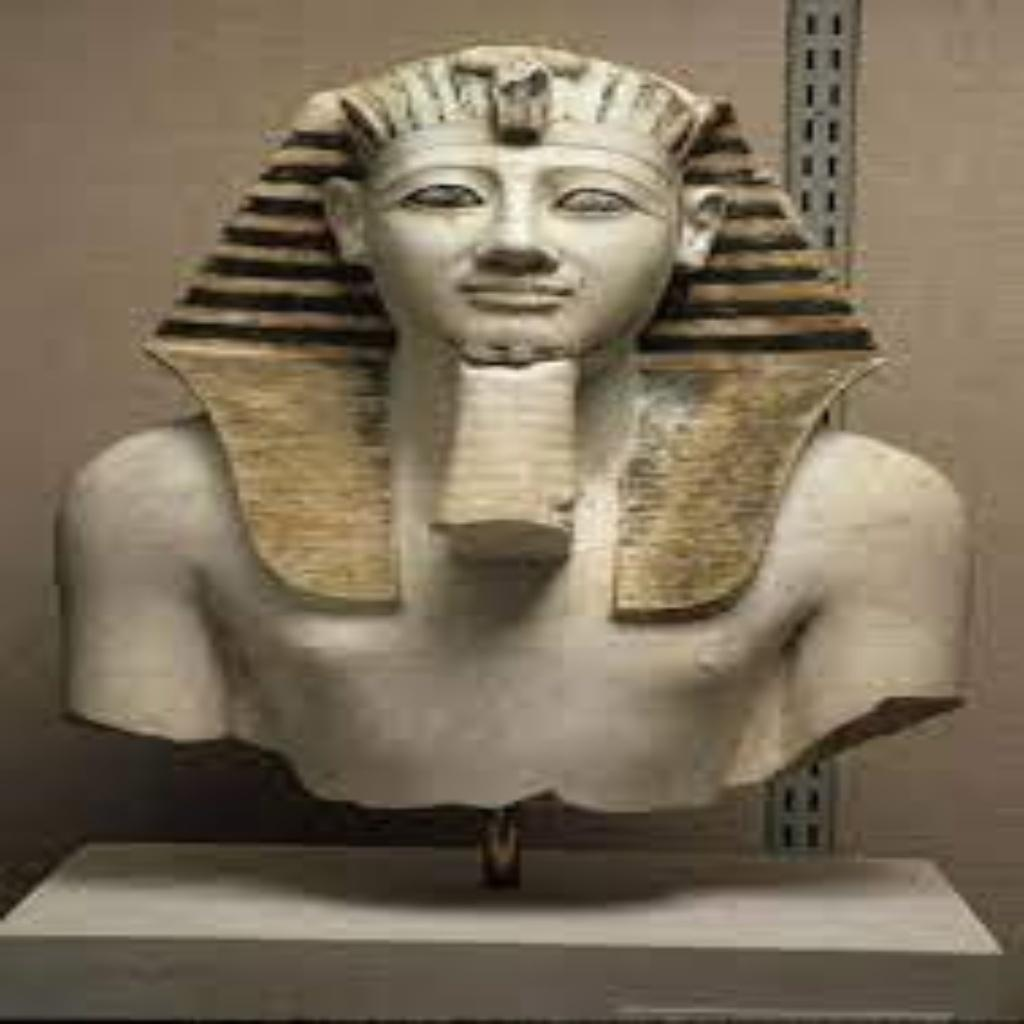King Thutmose III: (44, 38, 976, 878)
